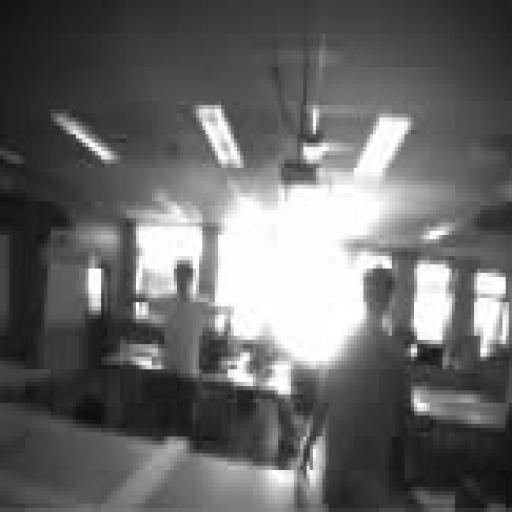human: (301, 269, 410, 511), (152, 261, 214, 436)
